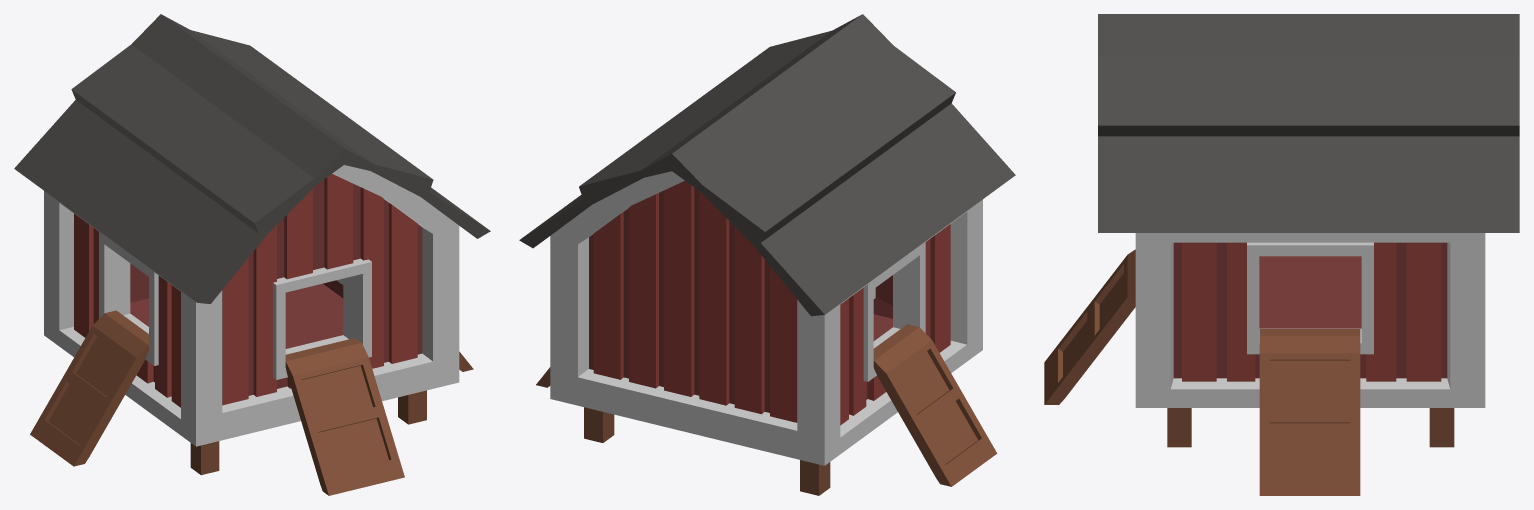
File: chicken-coop.glb
3 views of the same model, side by side, from view 1: azimuth 30°, elevation 25°; view 2: azimuth 150°, elevation 25°; view 3: azimuth 270°, elevation 25° (orthographic). The views are drawn at different scales.
Parts seen in each view (by area): view 1: ChickenCoop_Cube.015; view 2: ChickenCoop_Cube.015; view 3: ChickenCoop_Cube.015.
Part boxes in pixels (x1,y1,x2,y2): ChickenCoop_Cube.015: (14, 14, 490, 495); ChickenCoop_Cube.015: (519, 14, 1015, 495); ChickenCoop_Cube.015: (1044, 14, 1519, 495).
Bounding box in the file's own units: 2.41 × 1.85 × 2.15.
1 material, 1 textured.
